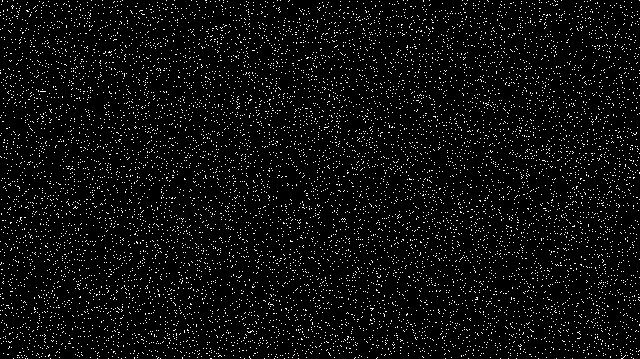pot: (177, 102, 279, 218)
